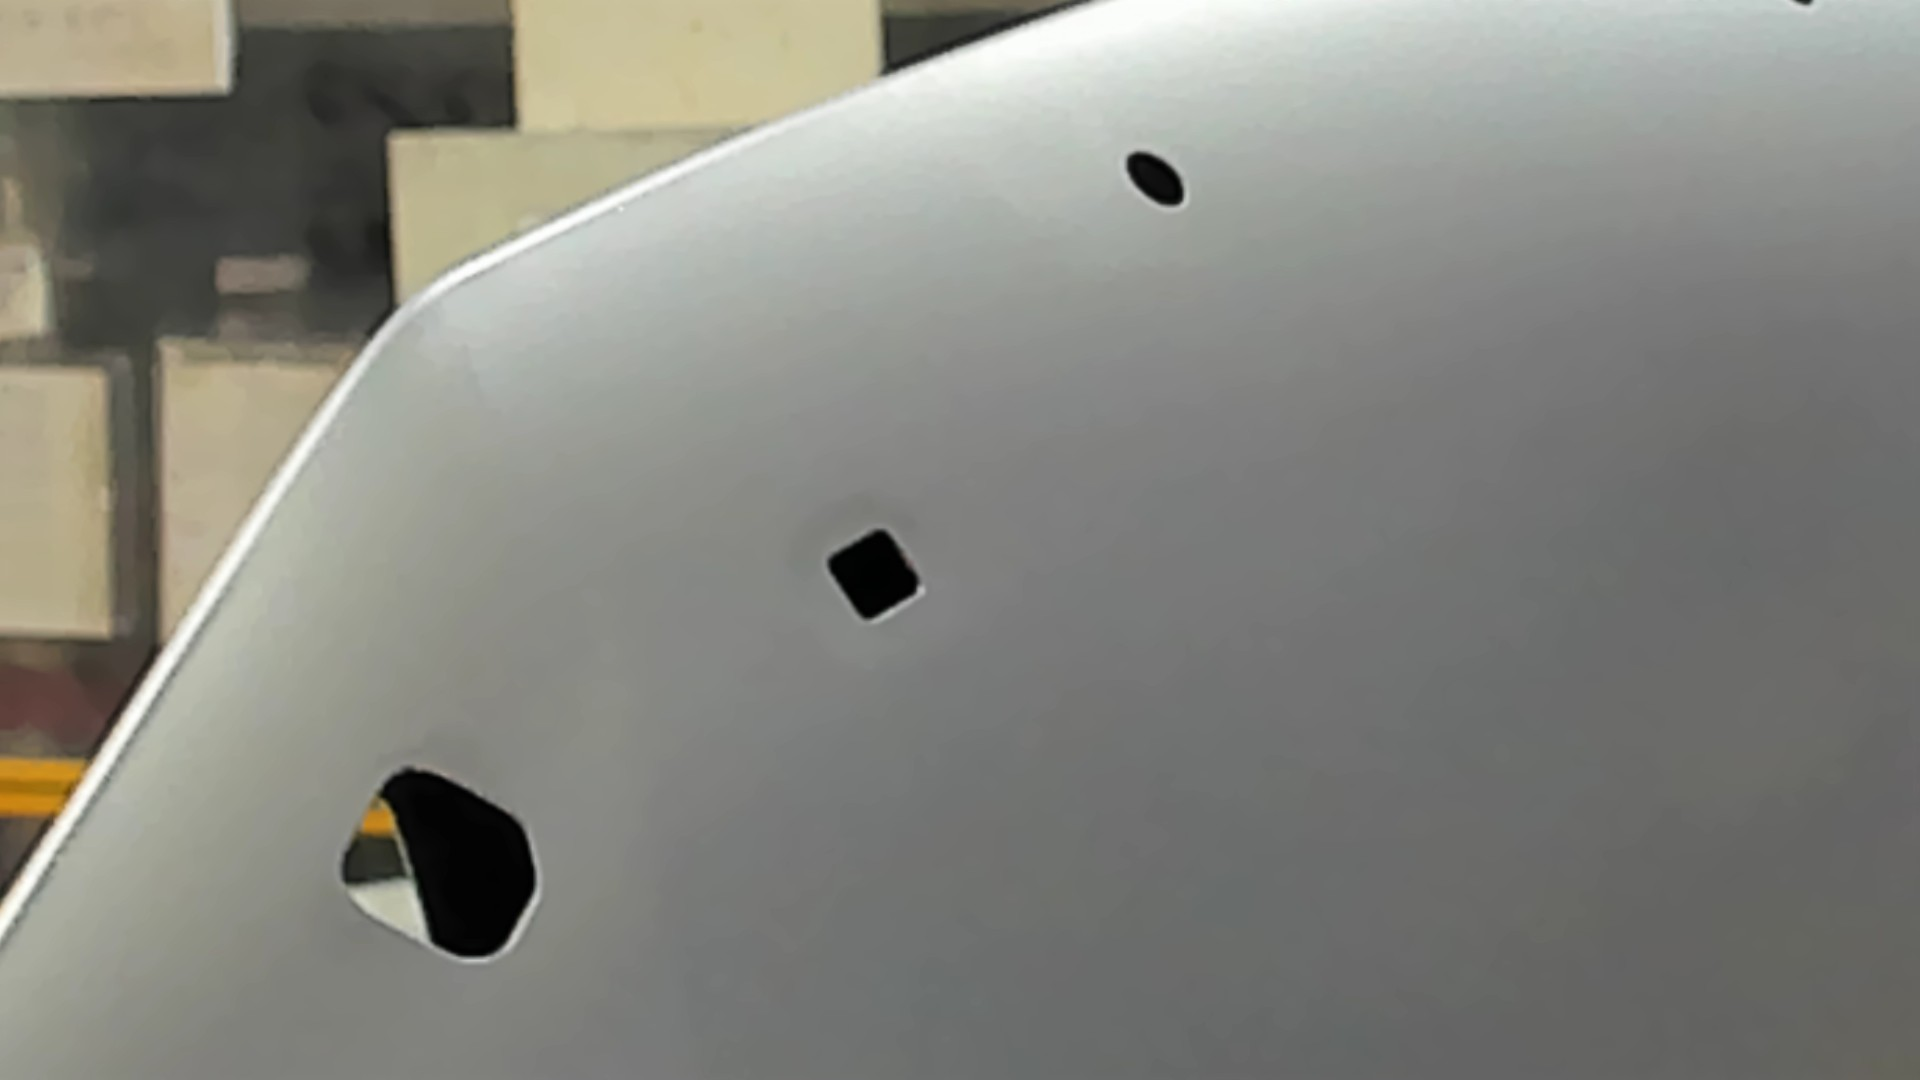chico: (1120, 146, 1192, 211)
grande: (338, 764, 547, 967)
mediano: (824, 524, 928, 622)
